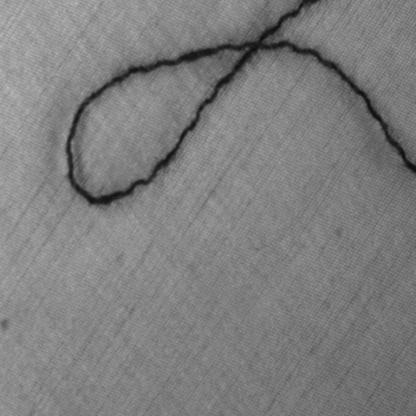objects: (62, 0, 416, 210)
